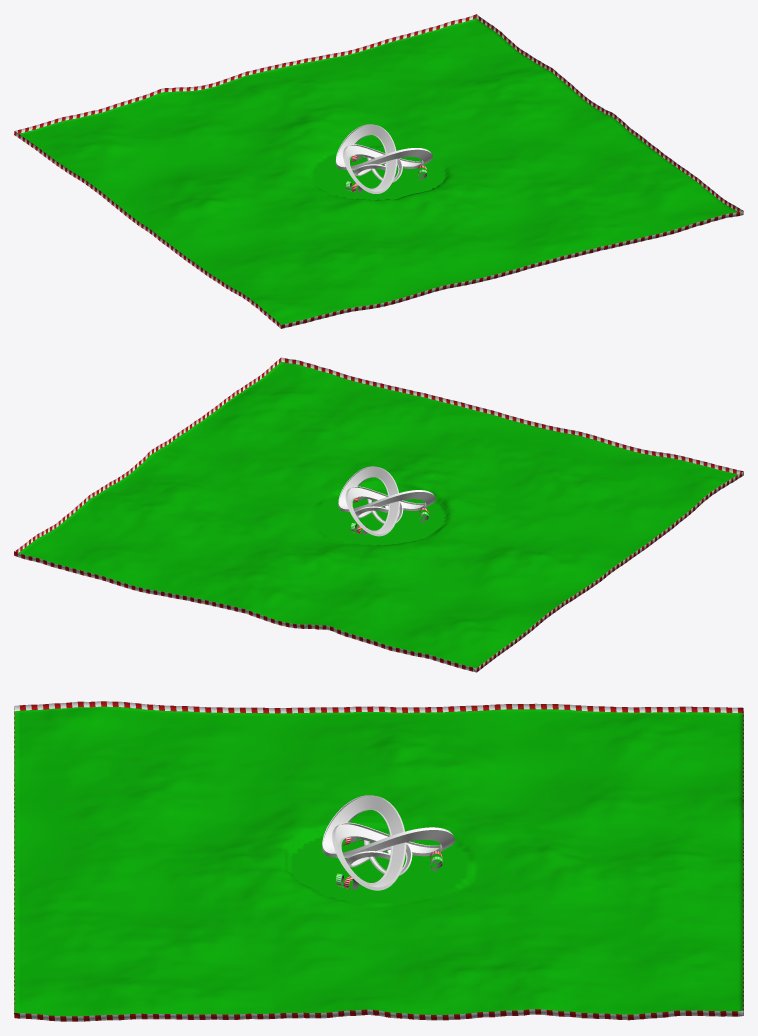
Rendered from TESTES PISTA D.glb.
3 views of the same model, one above another, from view 1: azimuth 30°, elevation 25°; view 2: azimuth 150°, elevation 25°; view 3: azimuth 270°, elevation 25° (orthographic). The views are drawn at different scales.
Visible parts, largest first — view 1: Landscape.001, Pista.001 Subdividida X 3 Model A.002; view 2: Landscape.001, Pista.001 Subdividida X 3 Model A.002; view 3: Landscape.001, Pista.001 Subdividida X 3 Model A.002, Pista.001 Subdividida X 3 Model A.001.
Boxes of the visible parts, x1,y1,x2,y2 form: Landscape.001: (14,14,743,328); Pista.001 Subdividida X 3 Model A.002: (335,124,432,193); Landscape.001: (14,357,743,672); Pista.001 Subdividida X 3 Model A.002: (338,466,435,536); Landscape.001: (14,701,743,1021); Pista.001 Subdividida X 3 Model A.002: (322,795,454,890); Pista.001 Subdividida X 3 Model A.001: (345,840,412,875).
Bounding box in the file's own units: 5933 × 472 × 5934.
